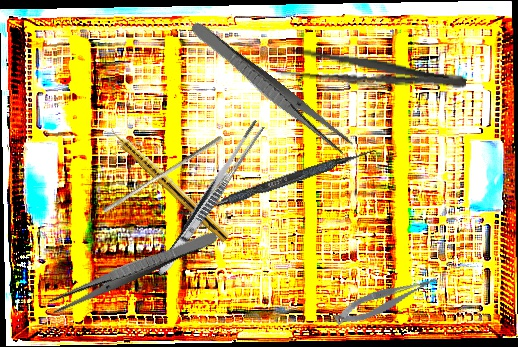Dressing Forceps: (185, 18, 356, 158), (153, 117, 266, 280), (47, 226, 219, 316), (275, 45, 469, 98)
Handpiece: (105, 123, 233, 243)
Micro Scissor: (330, 272, 443, 329)
Pusher: (102, 130, 223, 218)
Spatula Surgical: (178, 141, 377, 225)
